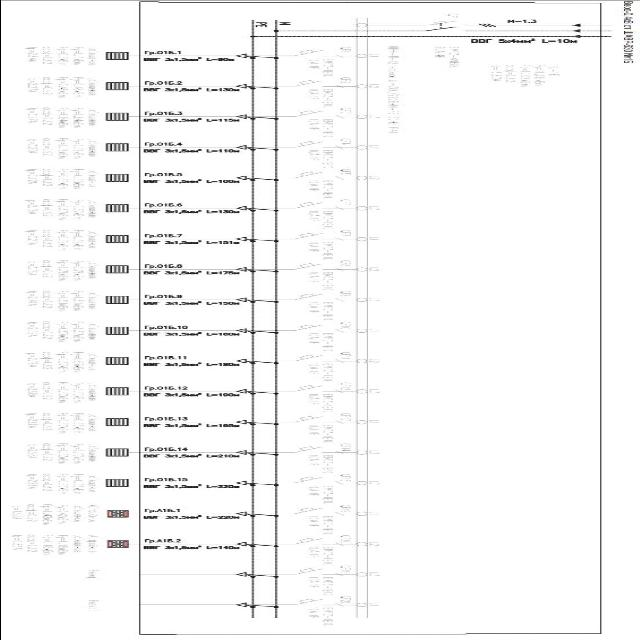-: (432, 44, 462, 68), (306, 118, 334, 140), (306, 270, 334, 292), (305, 148, 333, 170), (306, 544, 334, 566), (306, 514, 334, 536), (306, 484, 334, 506), (306, 576, 334, 597), (306, 87, 334, 108), (306, 57, 334, 78), (307, 424, 335, 445), (305, 363, 333, 384), (306, 210, 334, 231), (306, 179, 334, 200), (306, 332, 334, 353), (306, 241, 334, 262), (306, 607, 334, 628), (306, 393, 334, 414), (307, 454, 335, 474), (306, 302, 334, 322), (386, 46, 400, 66)
QF: (426, 20, 468, 34), (290, 293, 330, 301), (292, 324, 332, 332), (292, 354, 332, 362), (291, 386, 331, 394), (292, 415, 332, 423), (290, 446, 330, 454), (290, 49, 330, 57), (291, 80, 331, 88), (292, 476, 332, 484), (293, 507, 333, 515), (292, 110, 332, 118), (290, 538, 330, 546), (292, 568, 332, 576), (292, 598, 332, 606), (292, 141, 332, 149), (292, 170, 332, 178), (292, 202, 332, 210), (293, 232, 333, 240), (290, 263, 330, 271)
